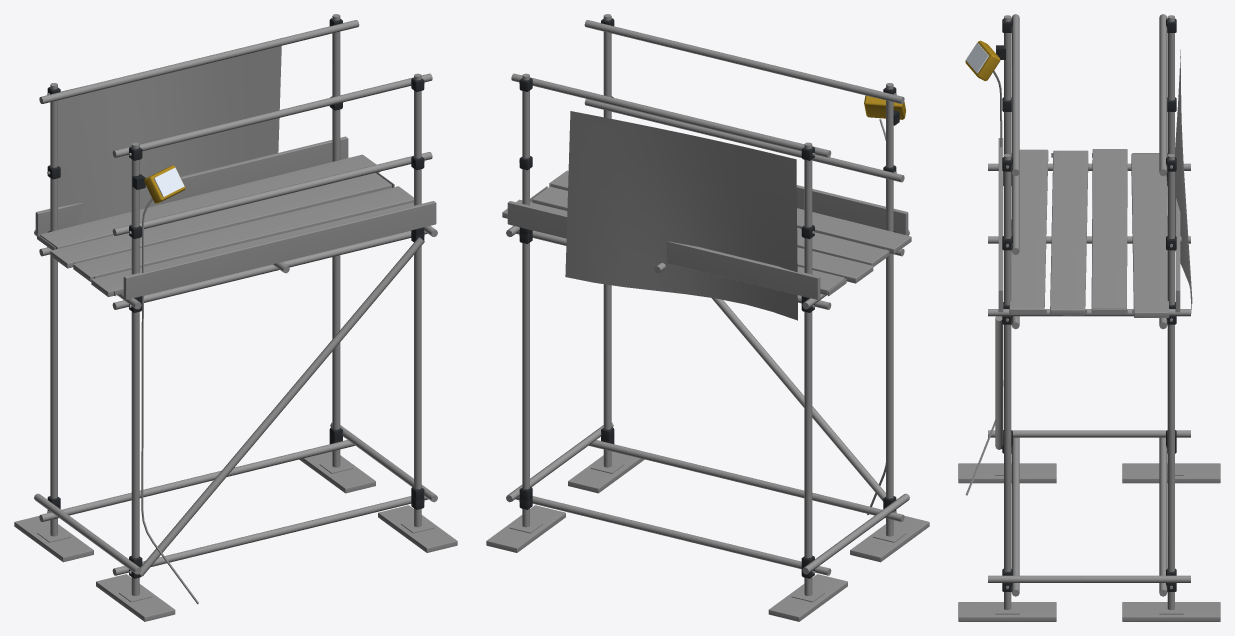
File: Scaffolding_Section_2m.fbx
3 renders of one model, left to right at view 1: azimuth 30°, elevation 25°; view 2: azimuth 150°, elevation 25°; view 3: azimuth 270°, elevation 25°, orthographic.
Visible parts, largest first — view 1: Scaffolding_Section_2m_LOD0; view 2: Scaffolding_Section_2m_LOD0; view 3: Scaffolding_Section_2m_LOD0.
Boxes of the visible parts, <box> form: Scaffolding_Section_2m_LOD0: <box>14,14,457,621</box>; Scaffolding_Section_2m_LOD0: <box>486,14,929,621</box>; Scaffolding_Section_2m_LOD0: <box>958,14,1220,621</box>.
Size of what is drawn, in the model's own units: 2.37 by 3.09 by 1.6.
